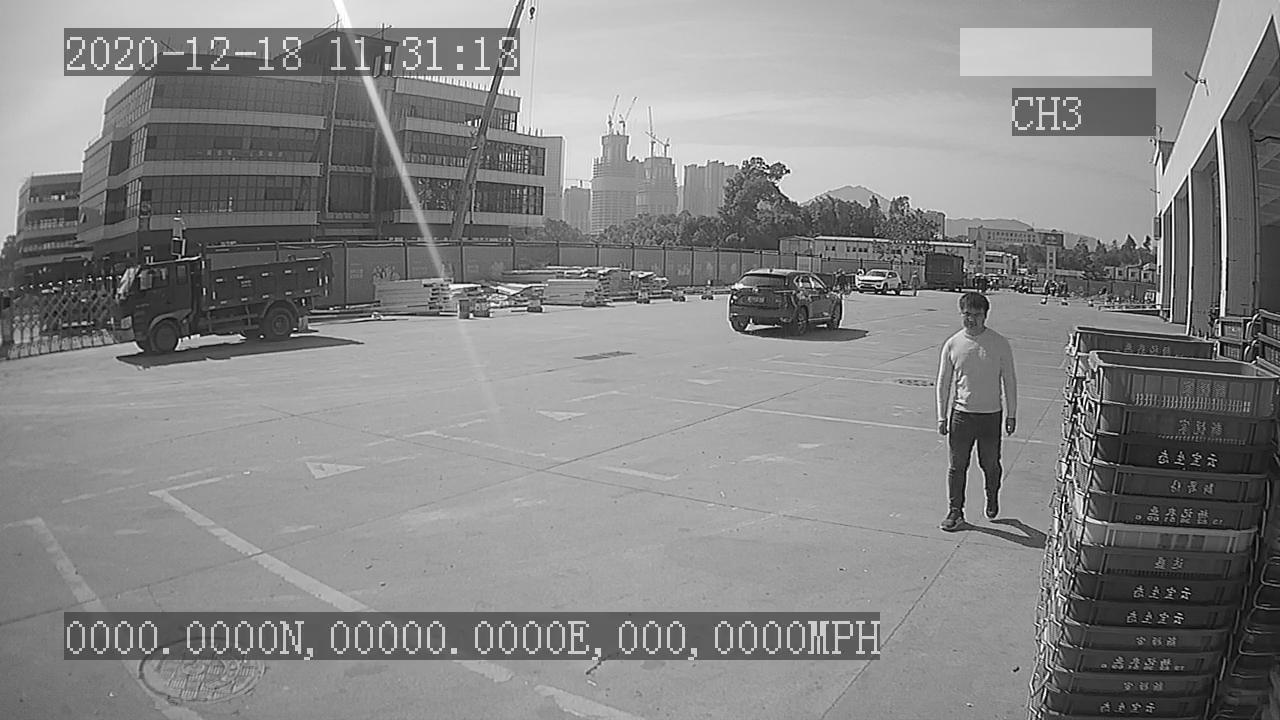person: (936, 291, 1020, 541)
